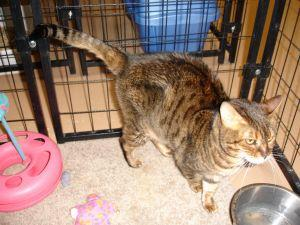bengal: (212, 95, 287, 171)
